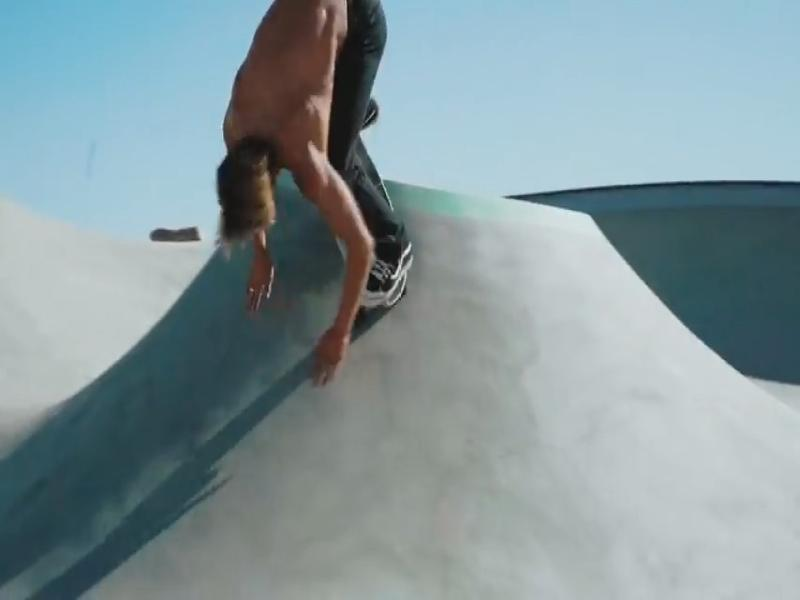person: (211, 2, 419, 397)
